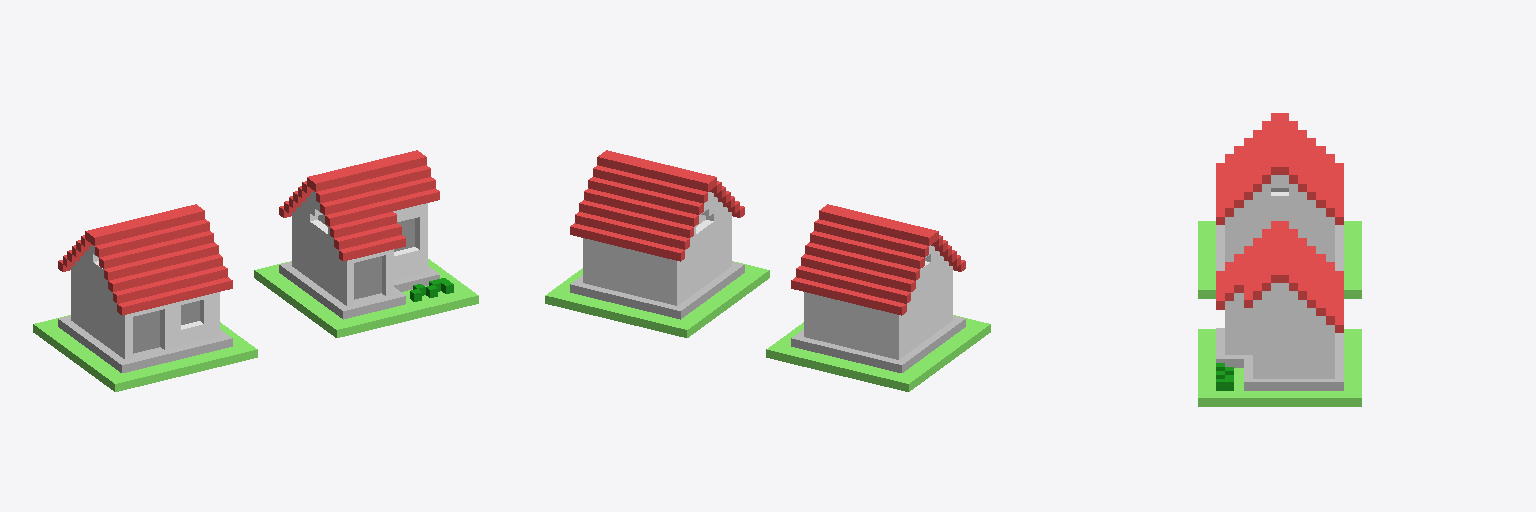
The picture shows the model from 3 angles: view 1: azimuth 30°, elevation 25°; view 2: azimuth 150°, elevation 25°; view 3: azimuth 270°, elevation 25°; orthographic projection.
Visible parts, largest first — view 1: Level1_13, Level2_12; view 2: Level2_12, Level1_13; view 3: Level2_12, Level1_13.
Part boxes in pixels (left/top/right/bottom): Level1_13: left=33, top=204, right=257, bottom=391; Level2_12: left=254, top=150, right=478, bottom=337; Level2_12: left=545, top=150, right=769, bottom=337; Level1_13: left=766, top=204, right=990, bottom=391; Level2_12: left=1198, top=221, right=1361, bottom=406; Level1_13: left=1198, top=113, right=1361, bottom=298.
Bounding box in the file's own units: 11.5 × 3.75 × 4.5.
Materials: 11 (2 with a texture image).